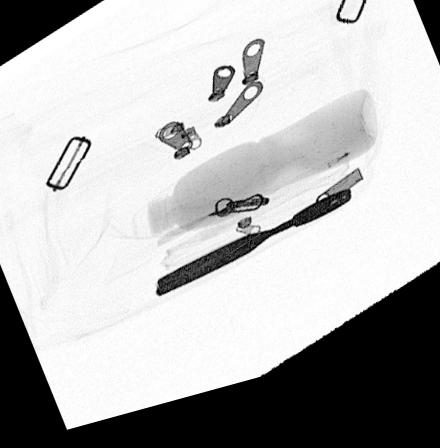Pliers: (153, 201, 355, 307)
